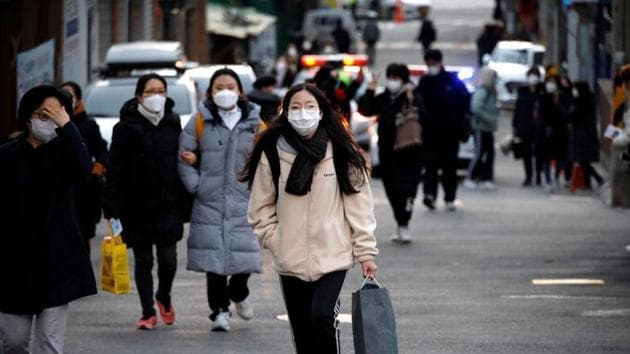with_mask: (32, 109, 59, 137), (290, 98, 318, 125), (212, 80, 239, 105), (144, 85, 164, 109)
